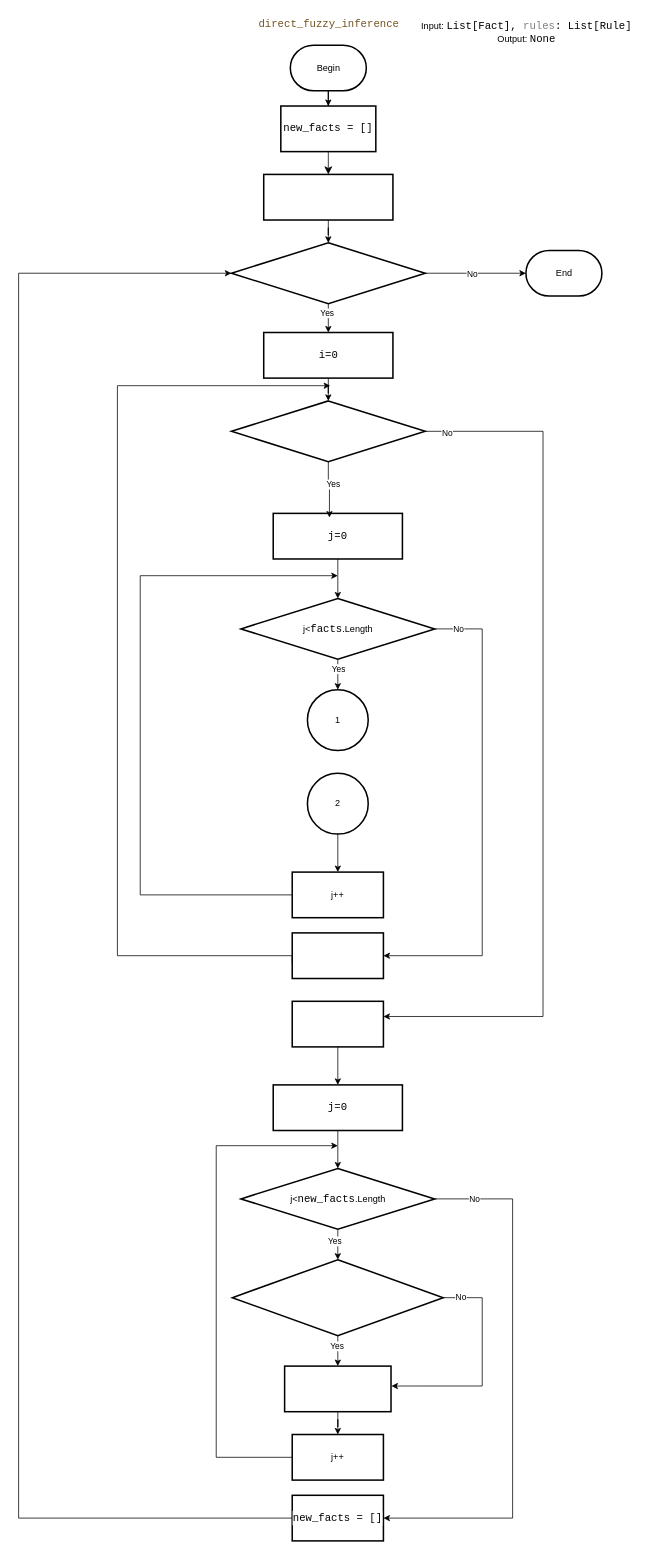
The diagram is 645 pixels wide and 1554 high, and some of its shapes have lost their labels. The shapes that lost their labels are listed below. From the top down, each one's centre as x and y in pixels, then its label:
the point at 328,196: counter = 1
the point at 328,273: facts
the point at 328,431: i< rules .Length
the point at 337,955: i++
the point at 337,1023: facts = []
the point at 337,1297: act not in old_facts and fact not in facts
the point at 337,1388: facts.append(fact)
